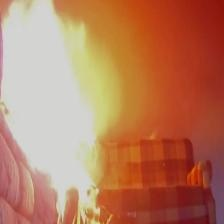fire: (0, 1, 115, 201)
